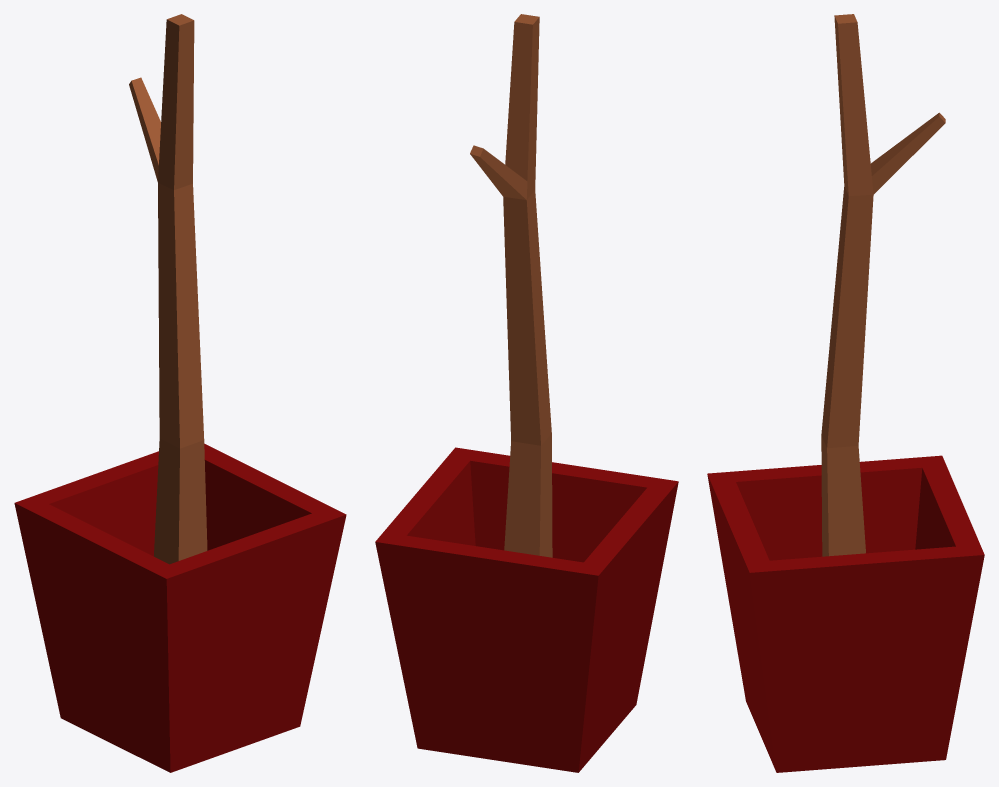
Rendered from plant.glb.
3 views of the same model, side by side, from view 1: azimuth 30°, elevation 25°; view 2: azimuth 150°, elevation 25°; view 3: azimuth 270°, elevation 25° (orthographic).
Visible parts, largest first — view 1: plant; view 2: plant; view 3: plant.
Part boxes in pixels (x1=…): plant: x1=14, y1=14, x2=346, y2=772; plant: x1=375, y1=14, x2=678, y2=772; plant: x1=707, y1=14, x2=984, y2=772.
Size of the model in its own units: 0.4365 by 1.24 by 0.4365.
